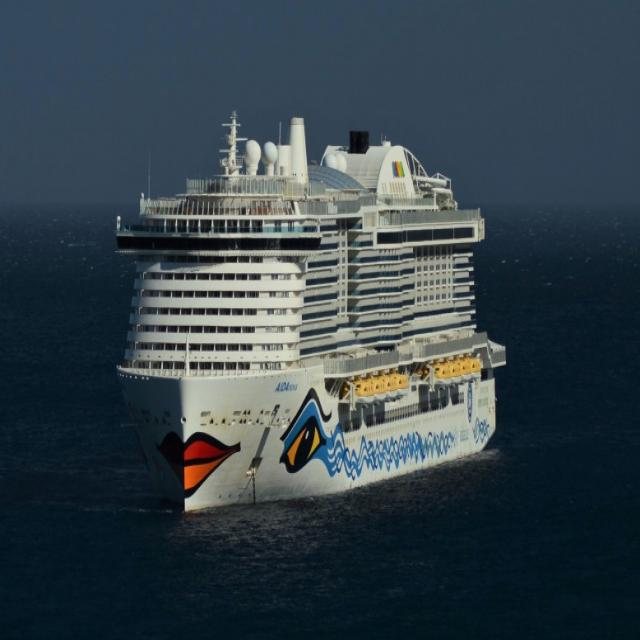cruises: (106, 107, 520, 524)
